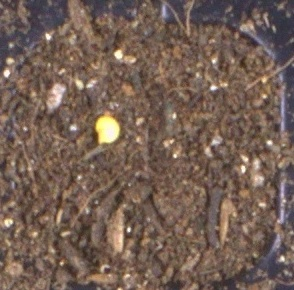chilli seed: (94, 115, 120, 145)
